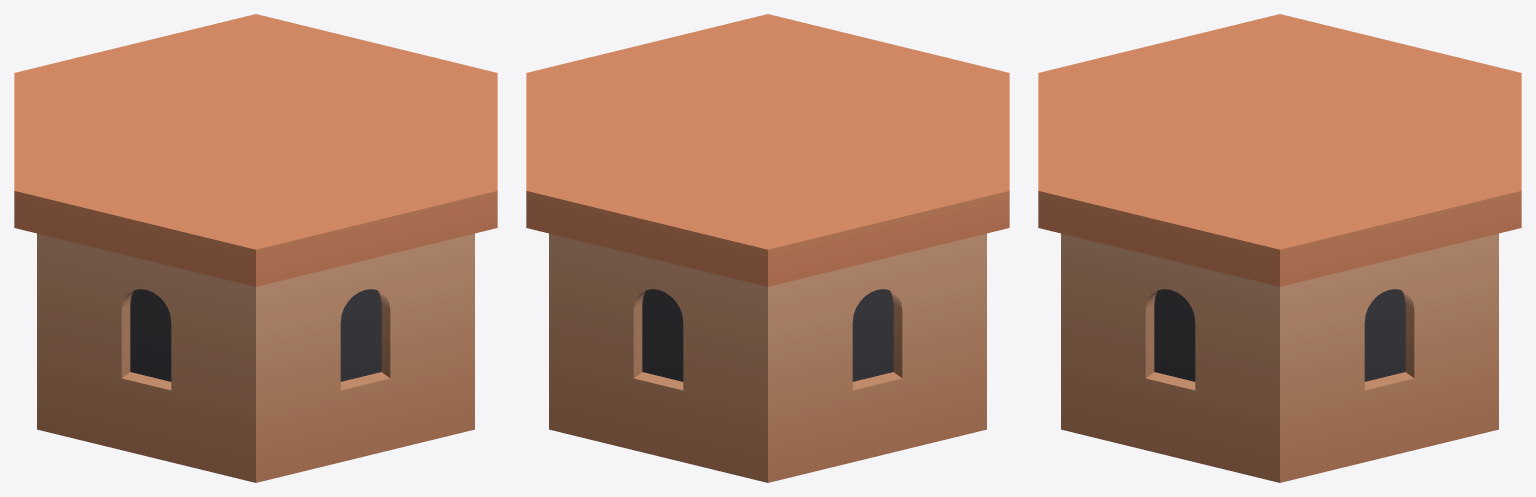
File: tower-hexagon-mid.glb
The picture shows the model from 3 angles, left to right: view 1: azimuth 30°, elevation 25°; view 2: azimuth 150°, elevation 25°; view 3: azimuth 270°, elevation 25°; orthographic projection.
Parts seen in each view (by area): view 1: tower-hexagon-mid; view 2: tower-hexagon-mid; view 3: tower-hexagon-mid.
Boxes of the visible parts, bbox=[...] form: tower-hexagon-mid: bbox=[14, 14, 497, 482]; tower-hexagon-mid: bbox=[526, 14, 1009, 482]; tower-hexagon-mid: bbox=[1038, 14, 1521, 482].
Size of the model in its own units: 0.9524 by 0.46 by 0.8249.
Materials: 1 (1 with a texture image).
